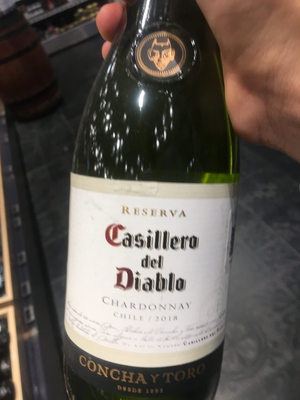casillero del diablo chardonnay: (64, 18, 244, 400)
